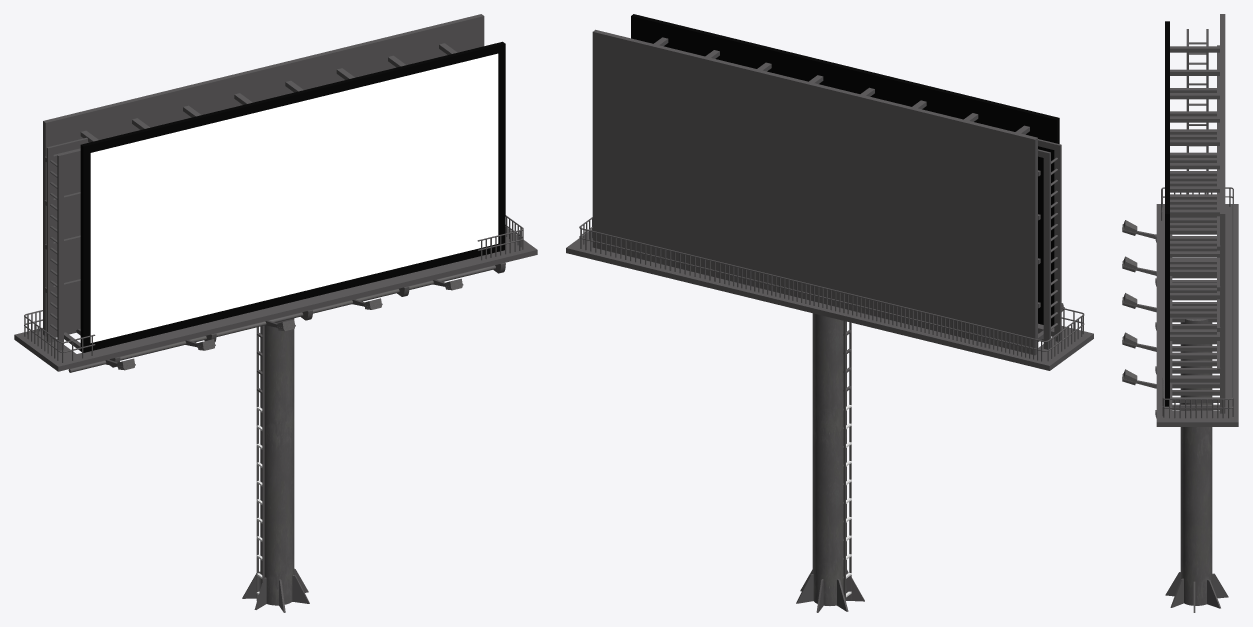
Rendered from billboard.glb.
3 renders of one model, left to right at view 1: azimuth 30°, elevation 25°; view 2: azimuth 150°, elevation 25°; view 3: azimuth 270°, elevation 25°, orthographic. The views are drawn at different scales.
Visible parts, largest first — view 1: Billboard; view 2: Billboard; view 3: Billboard.
Boxes of the visible parts, x1,y1,x2,y2 form: Billboard: (14, 14, 537, 612); Billboard: (566, 14, 1093, 612); Billboard: (1122, 14, 1238, 612).
Size of the model in its own units: 5.97 by 6.18 by 1.34.
Materials: 4 (1 with a texture image).
